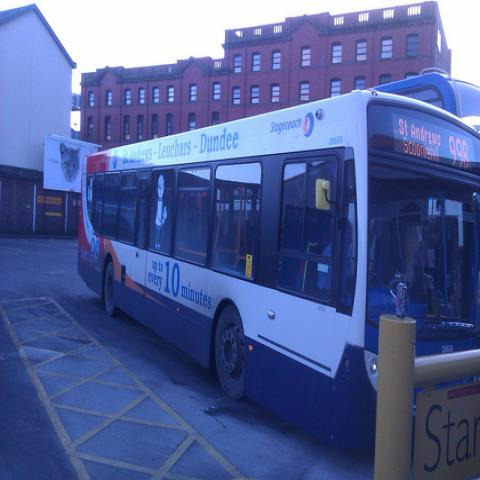bus: (77, 89, 478, 459), (376, 73, 479, 136)
